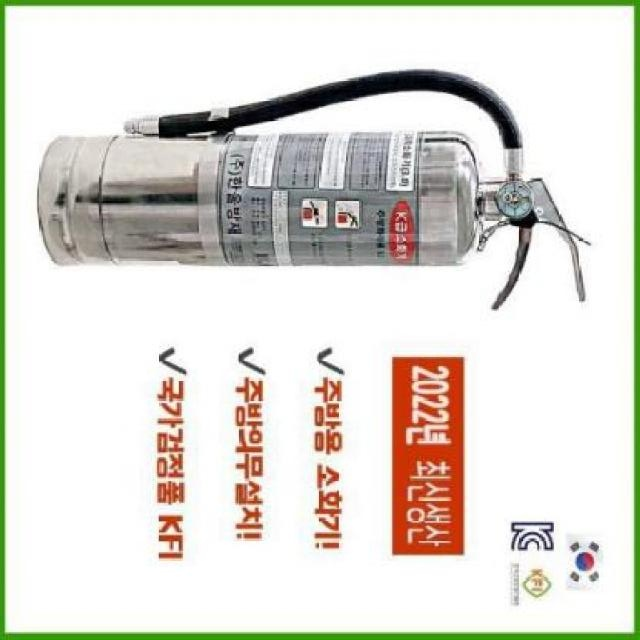fire extinguisher: (36, 70, 587, 313)
